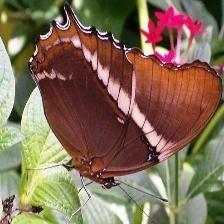butterfly: (30, 5, 222, 188)
